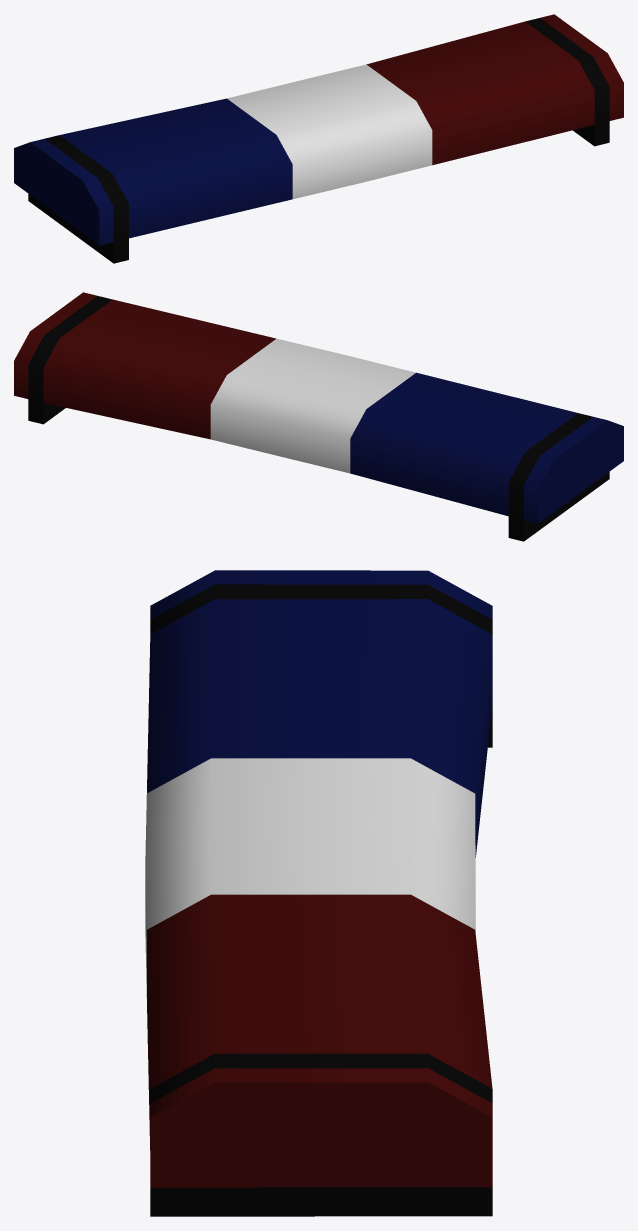
The model's file is cop_lights.fbx.
The picture shows the model from 3 angles, top to bottom: view 1: azimuth 30°, elevation 25°; view 2: azimuth 150°, elevation 25°; view 3: azimuth 270°, elevation 25°; orthographic projection. The views are drawn at different scales.
Visible parts, largest first — view 1: pCylinder7; view 2: pCylinder7; view 3: pCylinder7.
Boxes of the visible parts, bbox=[...] form: pCylinder7: bbox=[14, 14, 623, 263]; pCylinder7: bbox=[14, 292, 623, 541]; pCylinder7: bbox=[145, 570, 492, 1216].
Bounding box in the file's own units: 67.14 × 9.06 × 19.24.
